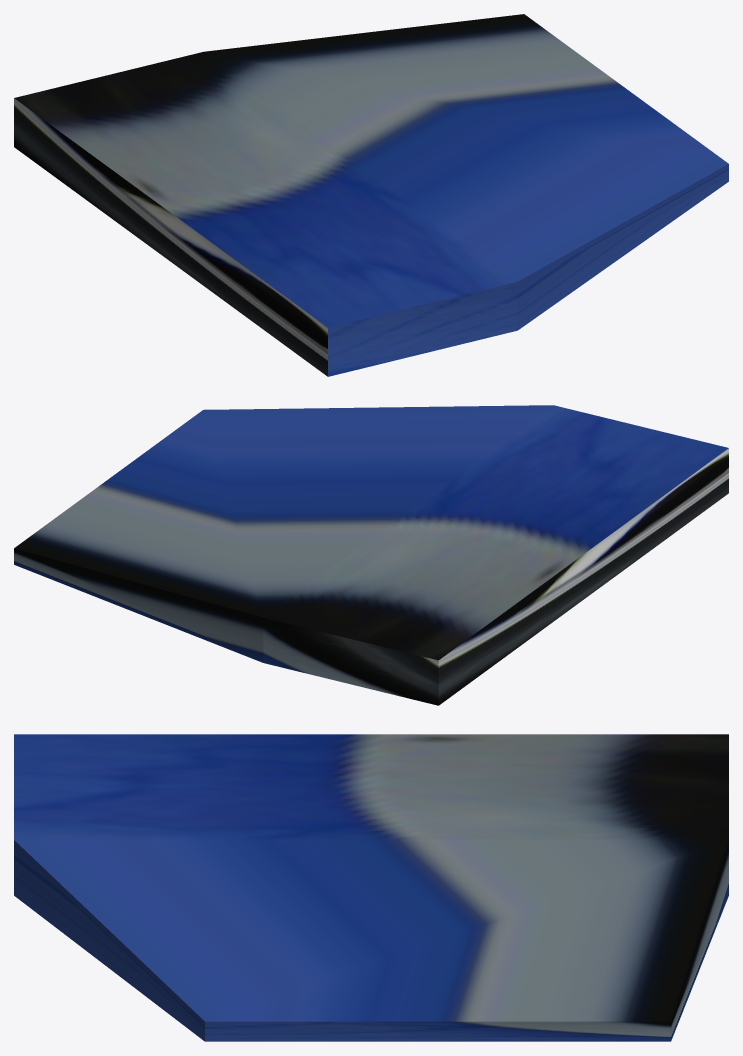
The picture shows the model from 3 angles, top to bottom: view 1: azimuth 30°, elevation 25°; view 2: azimuth 150°, elevation 25°; view 3: azimuth 270°, elevation 25°; orthographic projection. The views are drawn at different scales.
Visible parts, largest first — view 1: Wing-1.003_Cube.040; view 2: Wing-1.003_Cube.040; view 3: Wing-1.003_Cube.040.
Boxes of the visible parts, left/top/right/bottom form: Wing-1.003_Cube.040: left=14, top=14, right=728, bottom=376; Wing-1.003_Cube.040: left=14, top=405, right=728, bottom=705; Wing-1.003_Cube.040: left=14, top=734, right=728, bottom=1041.
Size of the model in its own units: 5.71 by 0.5514 by 6.4.
